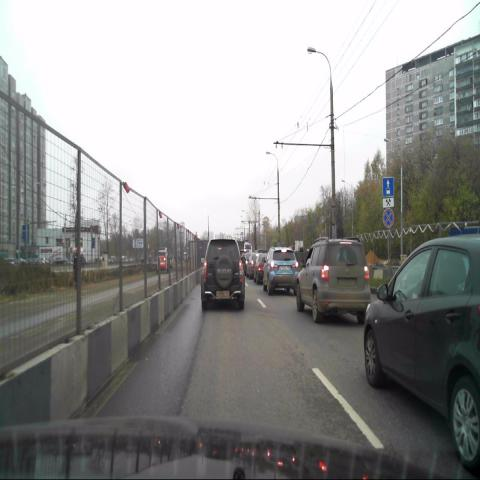5_14: (382, 178, 394, 198)
